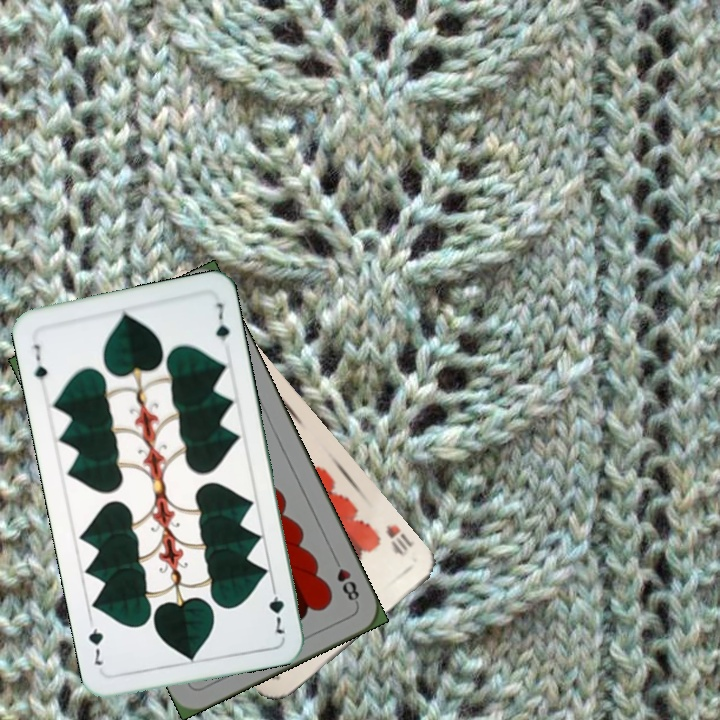G7: (264, 580, 288, 637), (29, 340, 50, 383)
H10: (381, 520, 417, 559)
H8: (328, 552, 362, 607)
